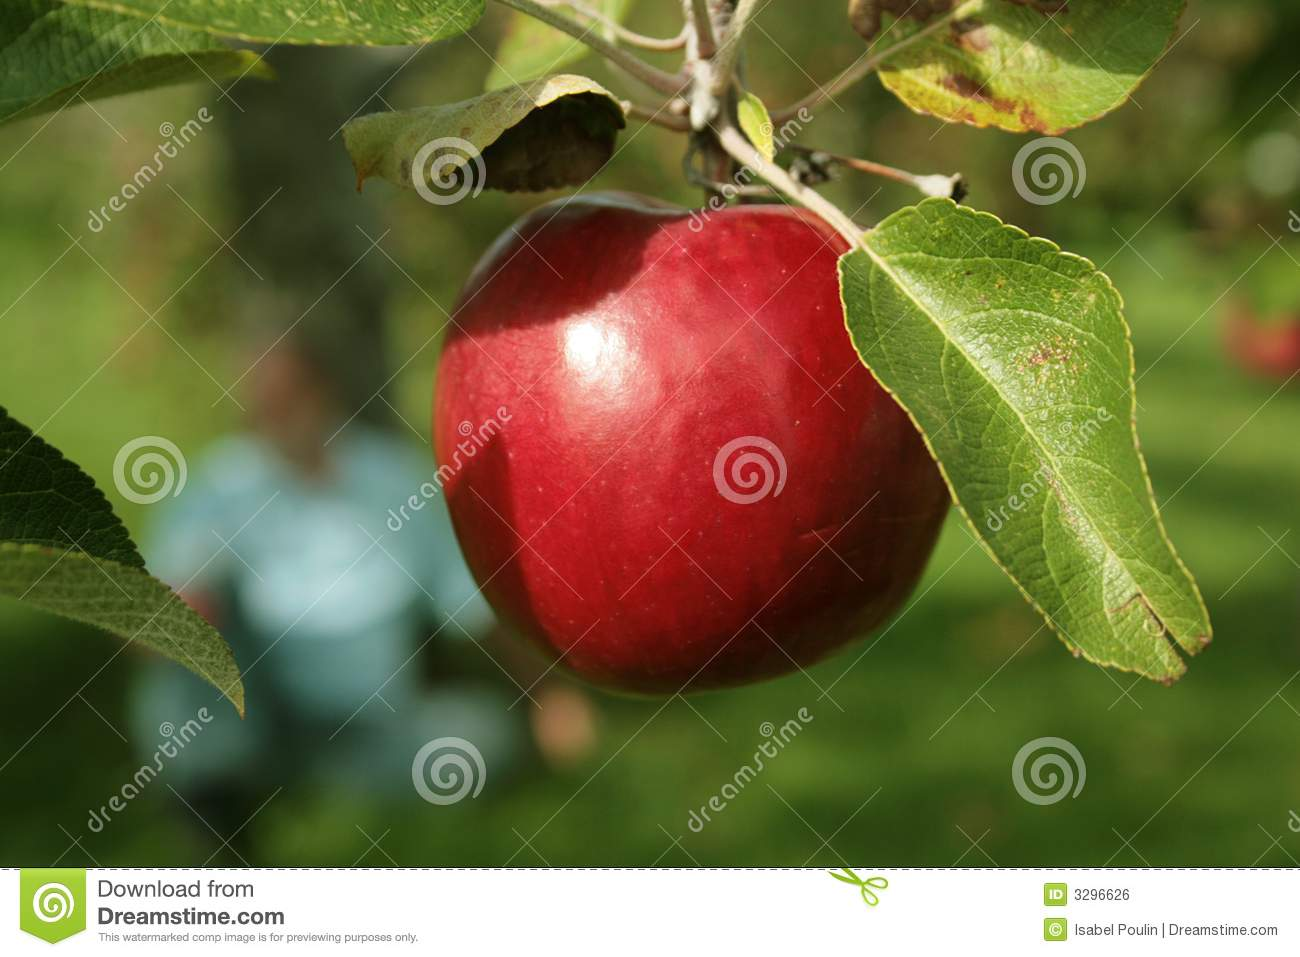obscured(1)_apple: (439, 198, 954, 693)
